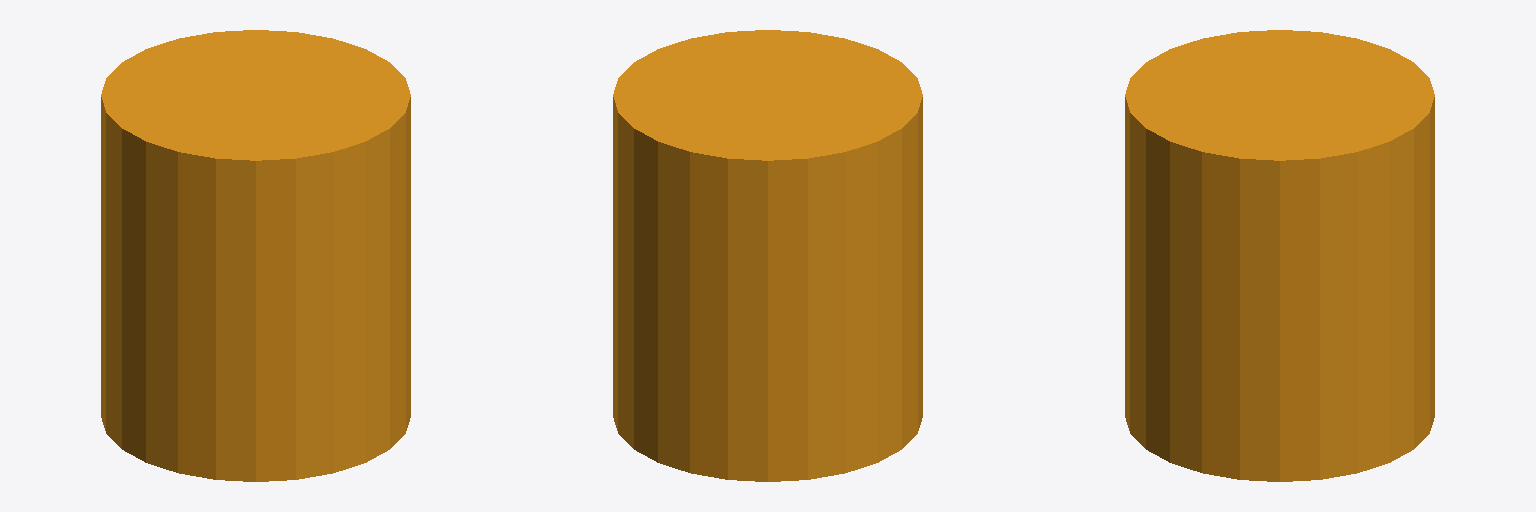
Rendered from glassinside.obj.
3 views of the same model, side by side, from view 1: azimuth 30°, elevation 25°; view 2: azimuth 150°, elevation 25°; view 3: azimuth 270°, elevation 25° (orthographic).
Parts seen in each view (by area): view 1: Glass_ID174; view 2: Glass_ID174; view 3: Glass_ID174.
Boxes of the visible parts, x1,y1,x2,y2 form: Glass_ID174: [101, 30, 410, 481]; Glass_ID174: [613, 30, 922, 481]; Glass_ID174: [1125, 30, 1434, 481].
Size of the model in its own units: 0.0229 by 0.0262 by 0.0229.